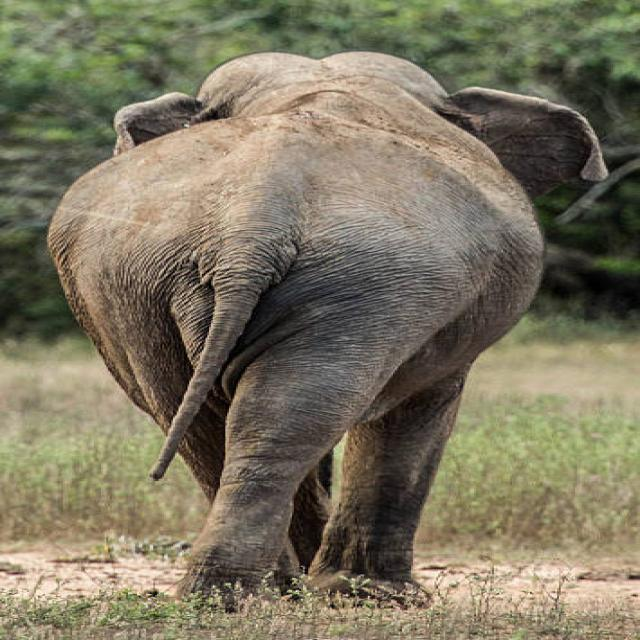Elephant: (34, 39, 603, 607)
